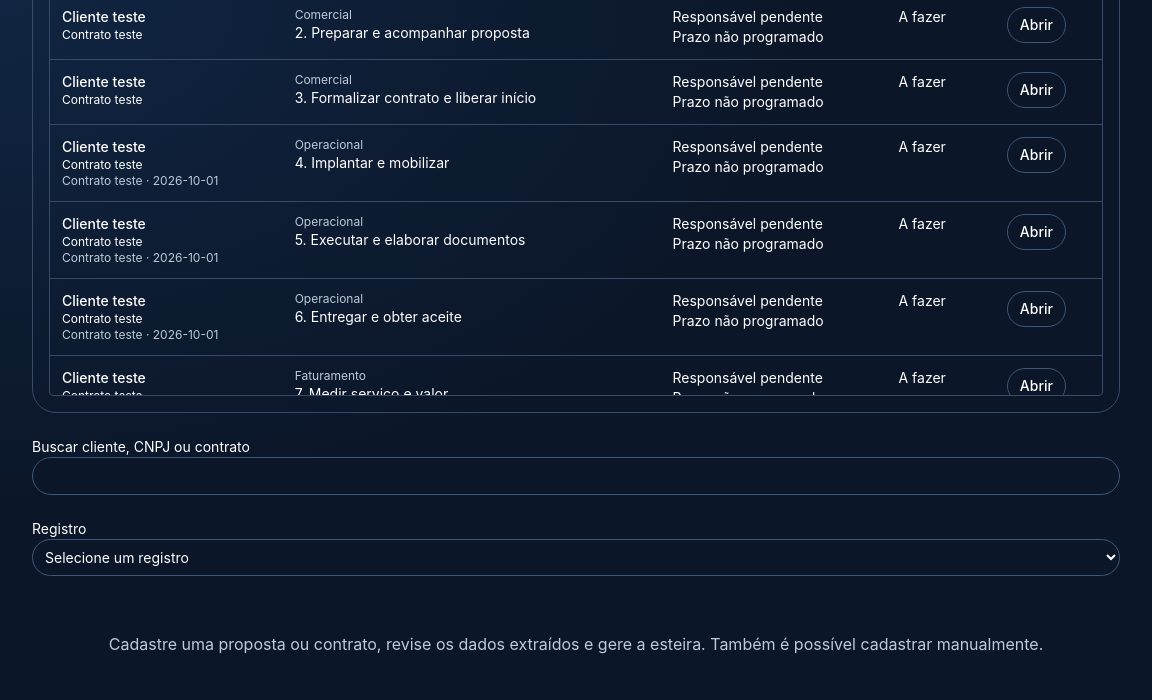
Test: production workspace › clears the Central when the billing query denies access: non-json
(page scrolled)
Select "Cliente teste · Contrato teste" in the dropdown labelled "Registro" at (576,558), box [32,539,1120,576]
(page scrolled)
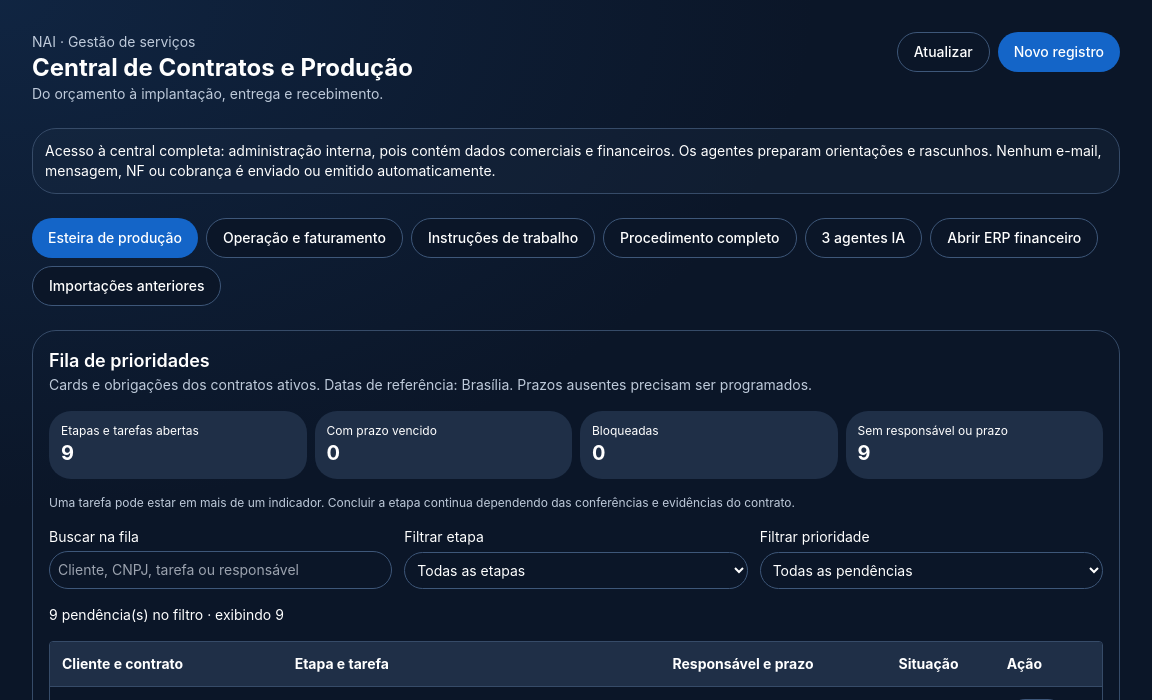
Click the button "Operação e faturamento" at (304,238), box [206,218,403,258]
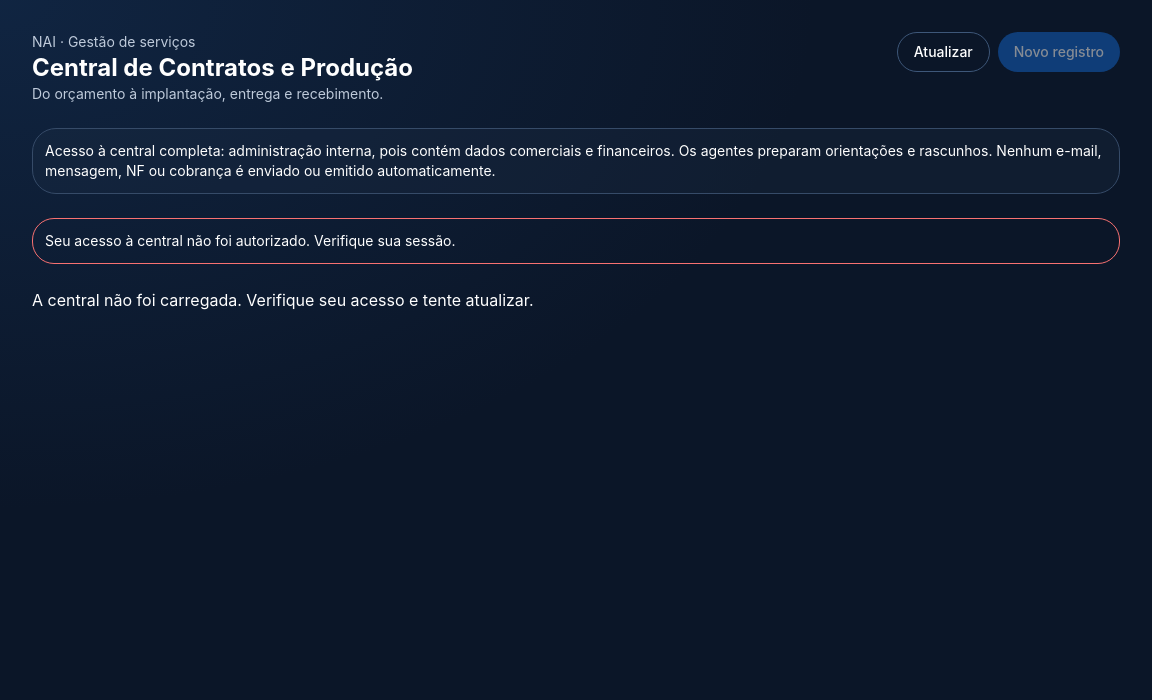
Check: the text "Contrato teste" is not shown
Check: the text "Verifique sua sessão" is shown, box [45,232,456,249]
